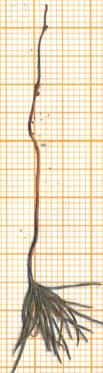flower: (0, 277, 103, 373)
root: (24, 3, 51, 143)
stem: (23, 143, 44, 278)
